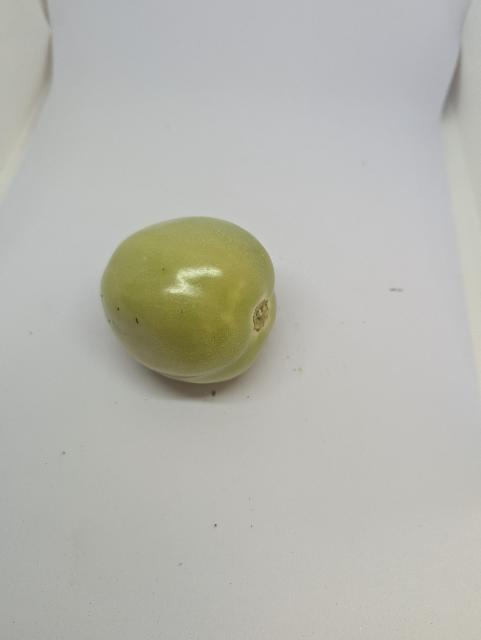green: (99, 214, 280, 385)
